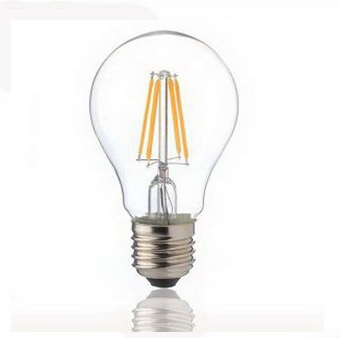Light_bulb: (81, 23, 250, 299)
